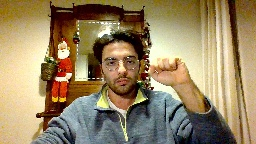Pugno: (144, 55, 193, 88)
